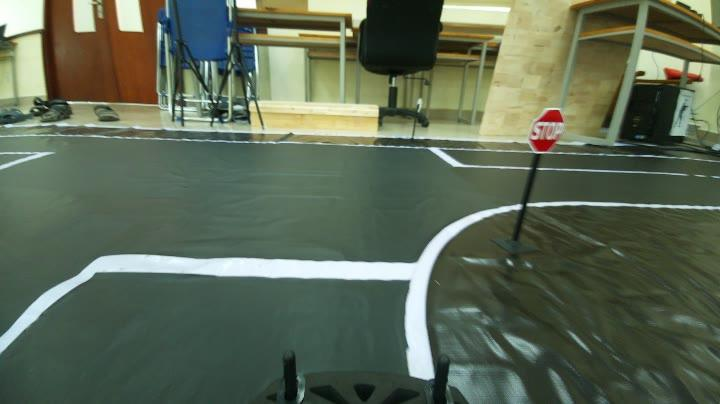stop: (516, 104, 564, 152)
